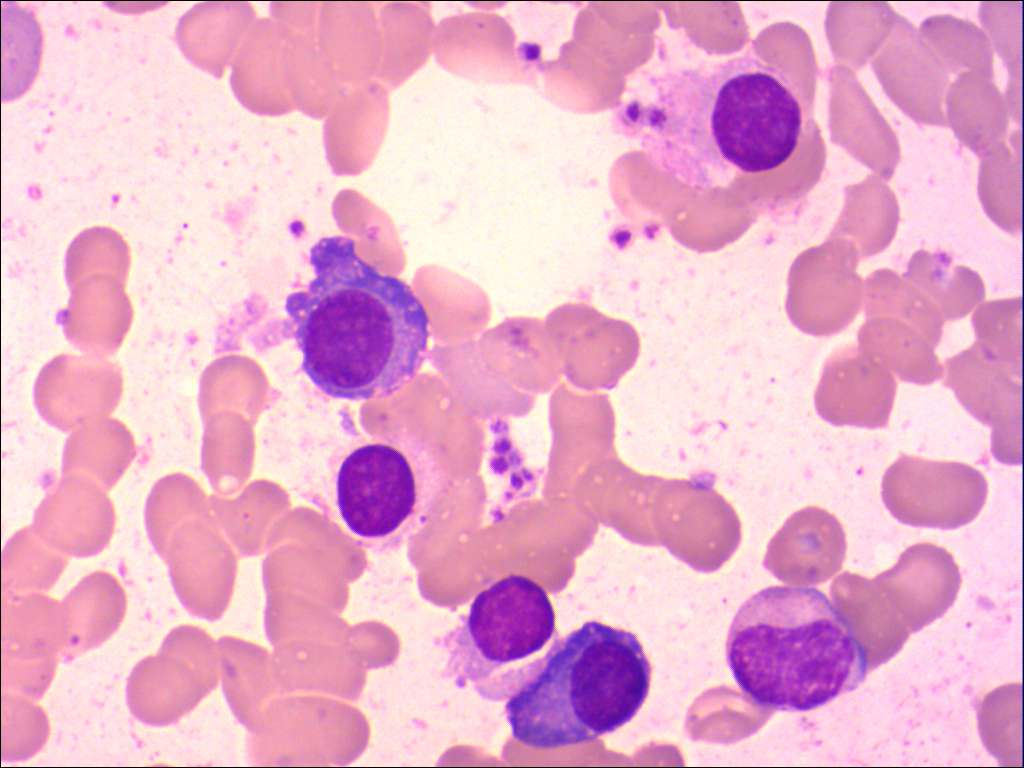4: (722, 581, 871, 715)
5: (606, 48, 809, 191)
51: (282, 233, 432, 405), (502, 617, 655, 752), (431, 571, 560, 690)
x: (322, 426, 445, 552)
